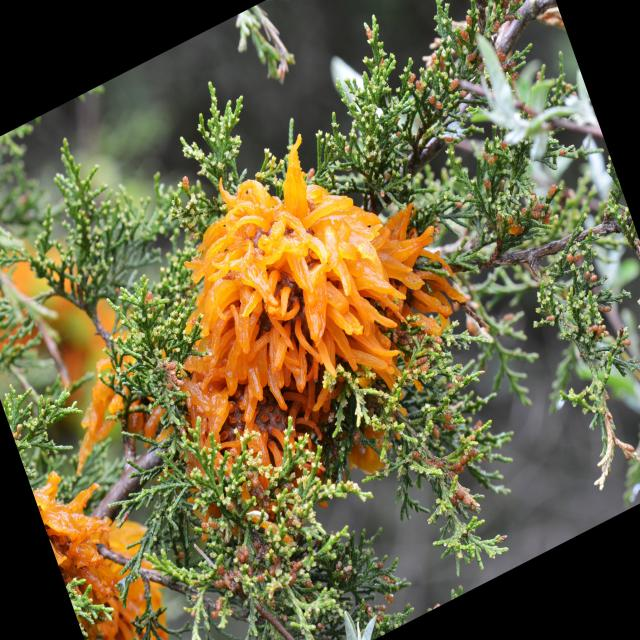Gymnosporangium_Rusts: (128, 116, 470, 464)
